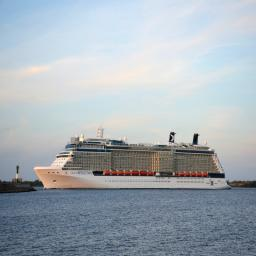cruises: (33, 125, 233, 194)
